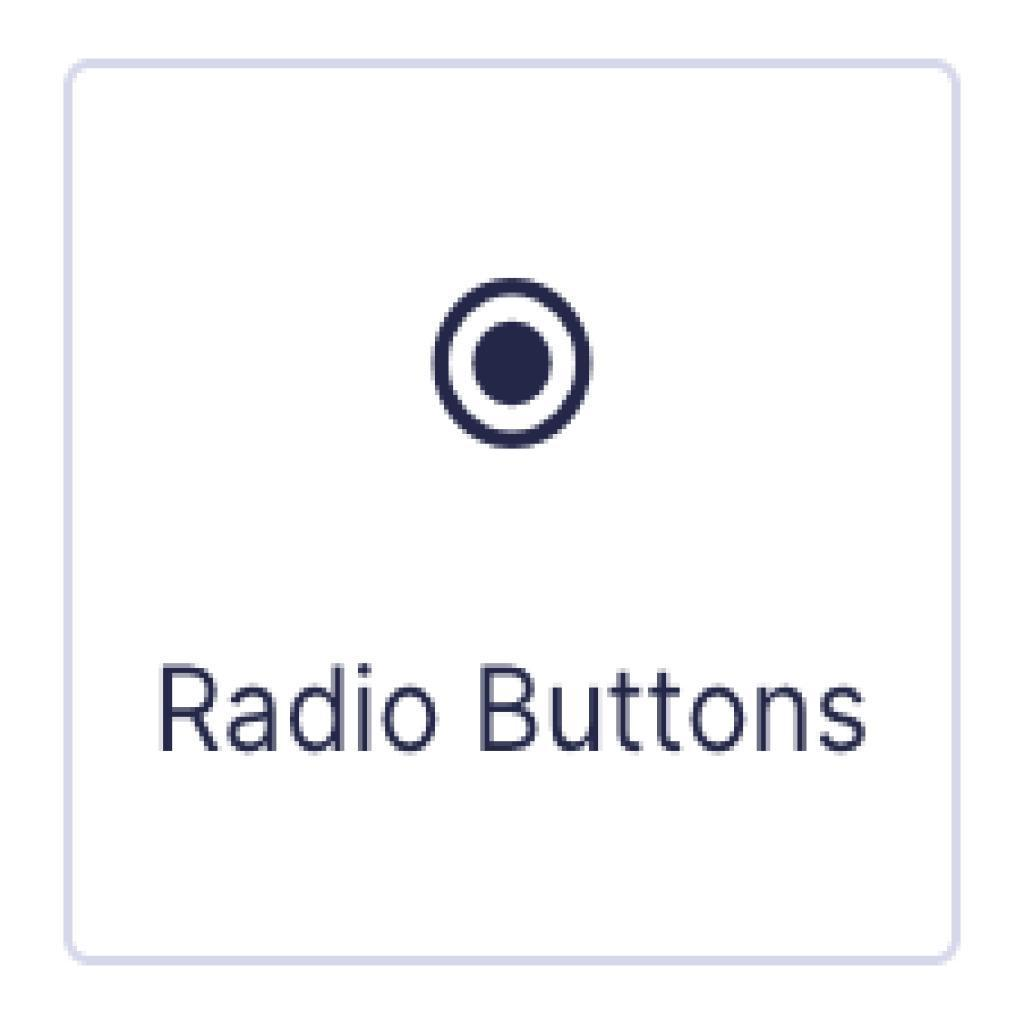radio: (424, 268, 598, 459)
